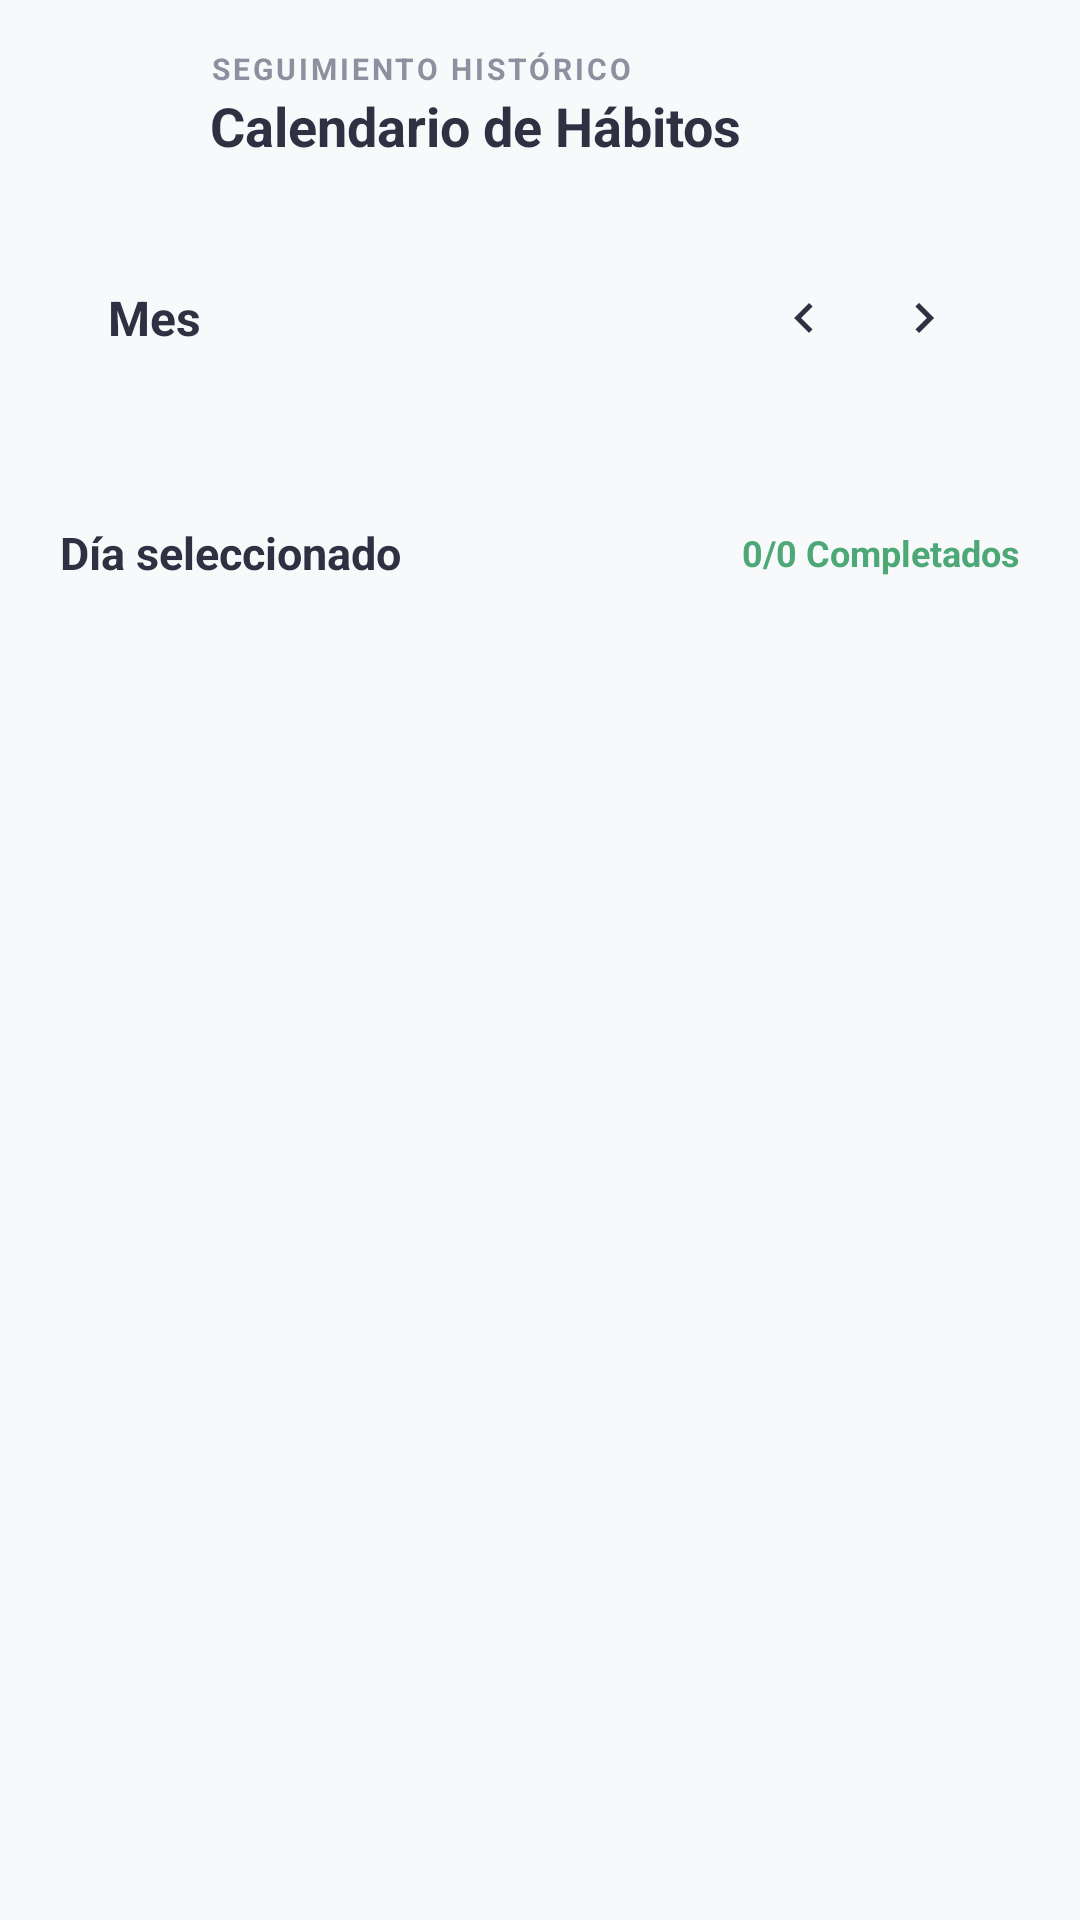

Named icons in this screenshot (1080x1920) and their bounding boxes, rect(x1, y1, x2, y2):
Mes anterior: rect(794, 303, 813, 333)
Mes siguiente: rect(915, 303, 934, 333)
